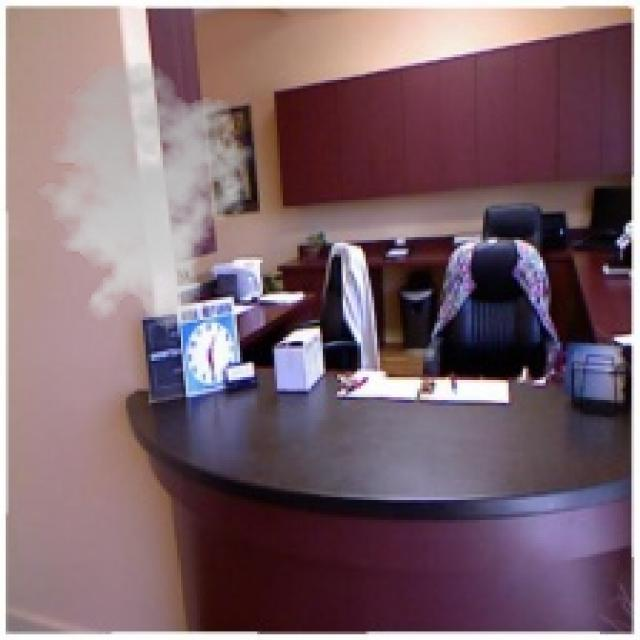smoke: (26, 60, 260, 331)
